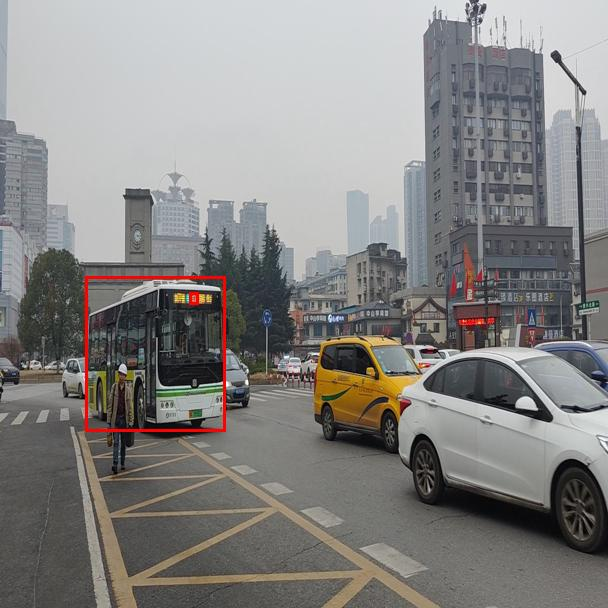bus: (85, 276, 225, 431)
screen: (189, 292, 198, 304)
